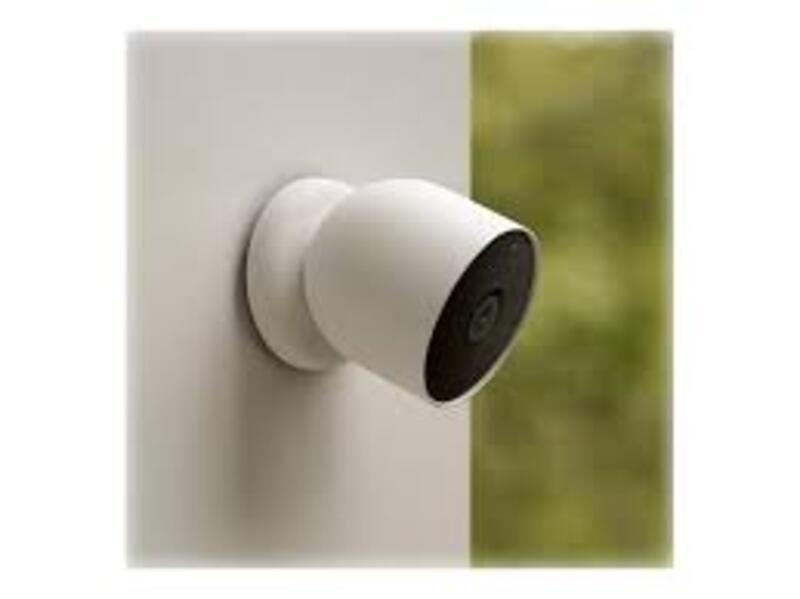nest: (284, 159, 546, 419)
